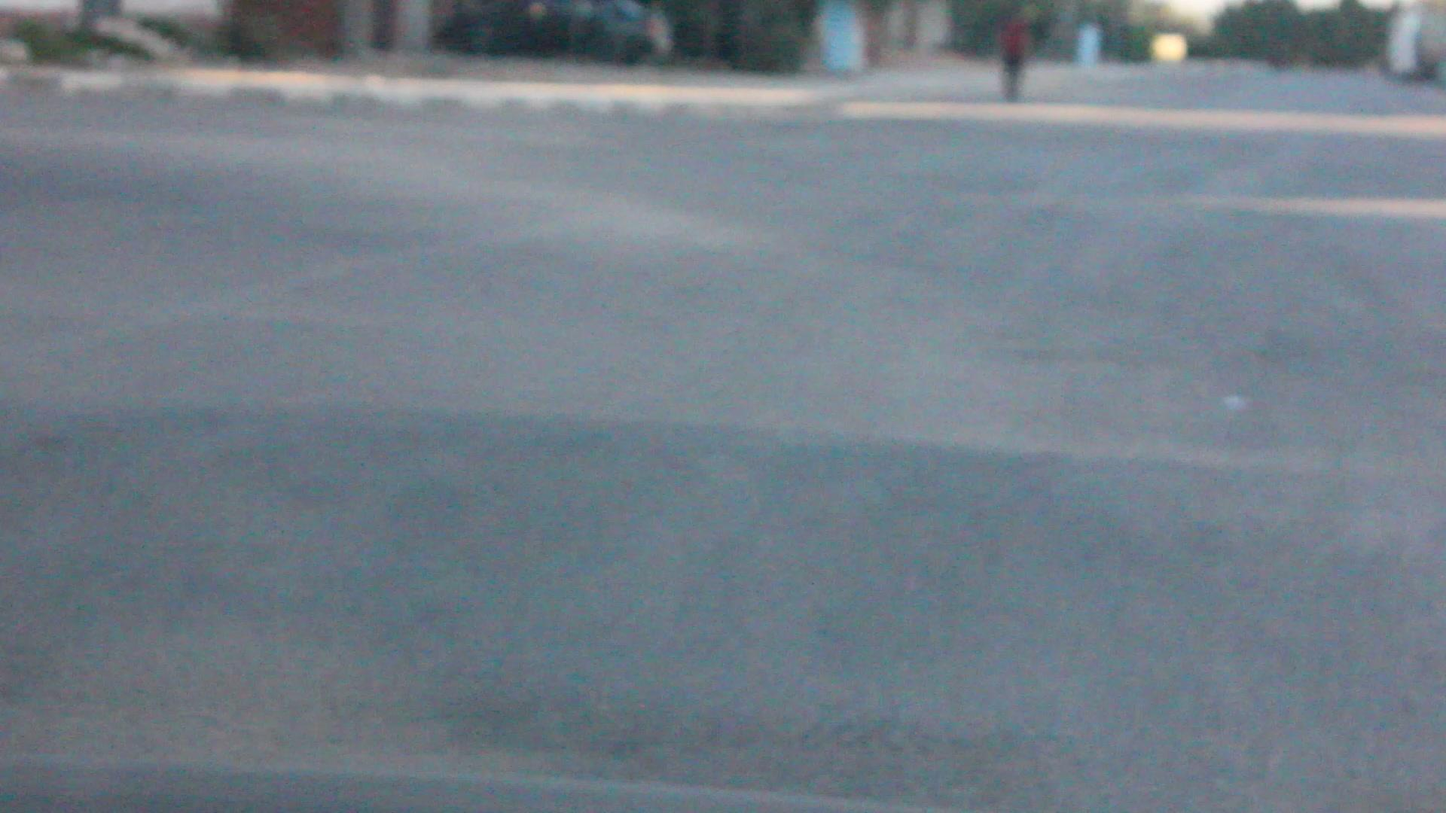Bump: (0, 365, 1446, 664)
